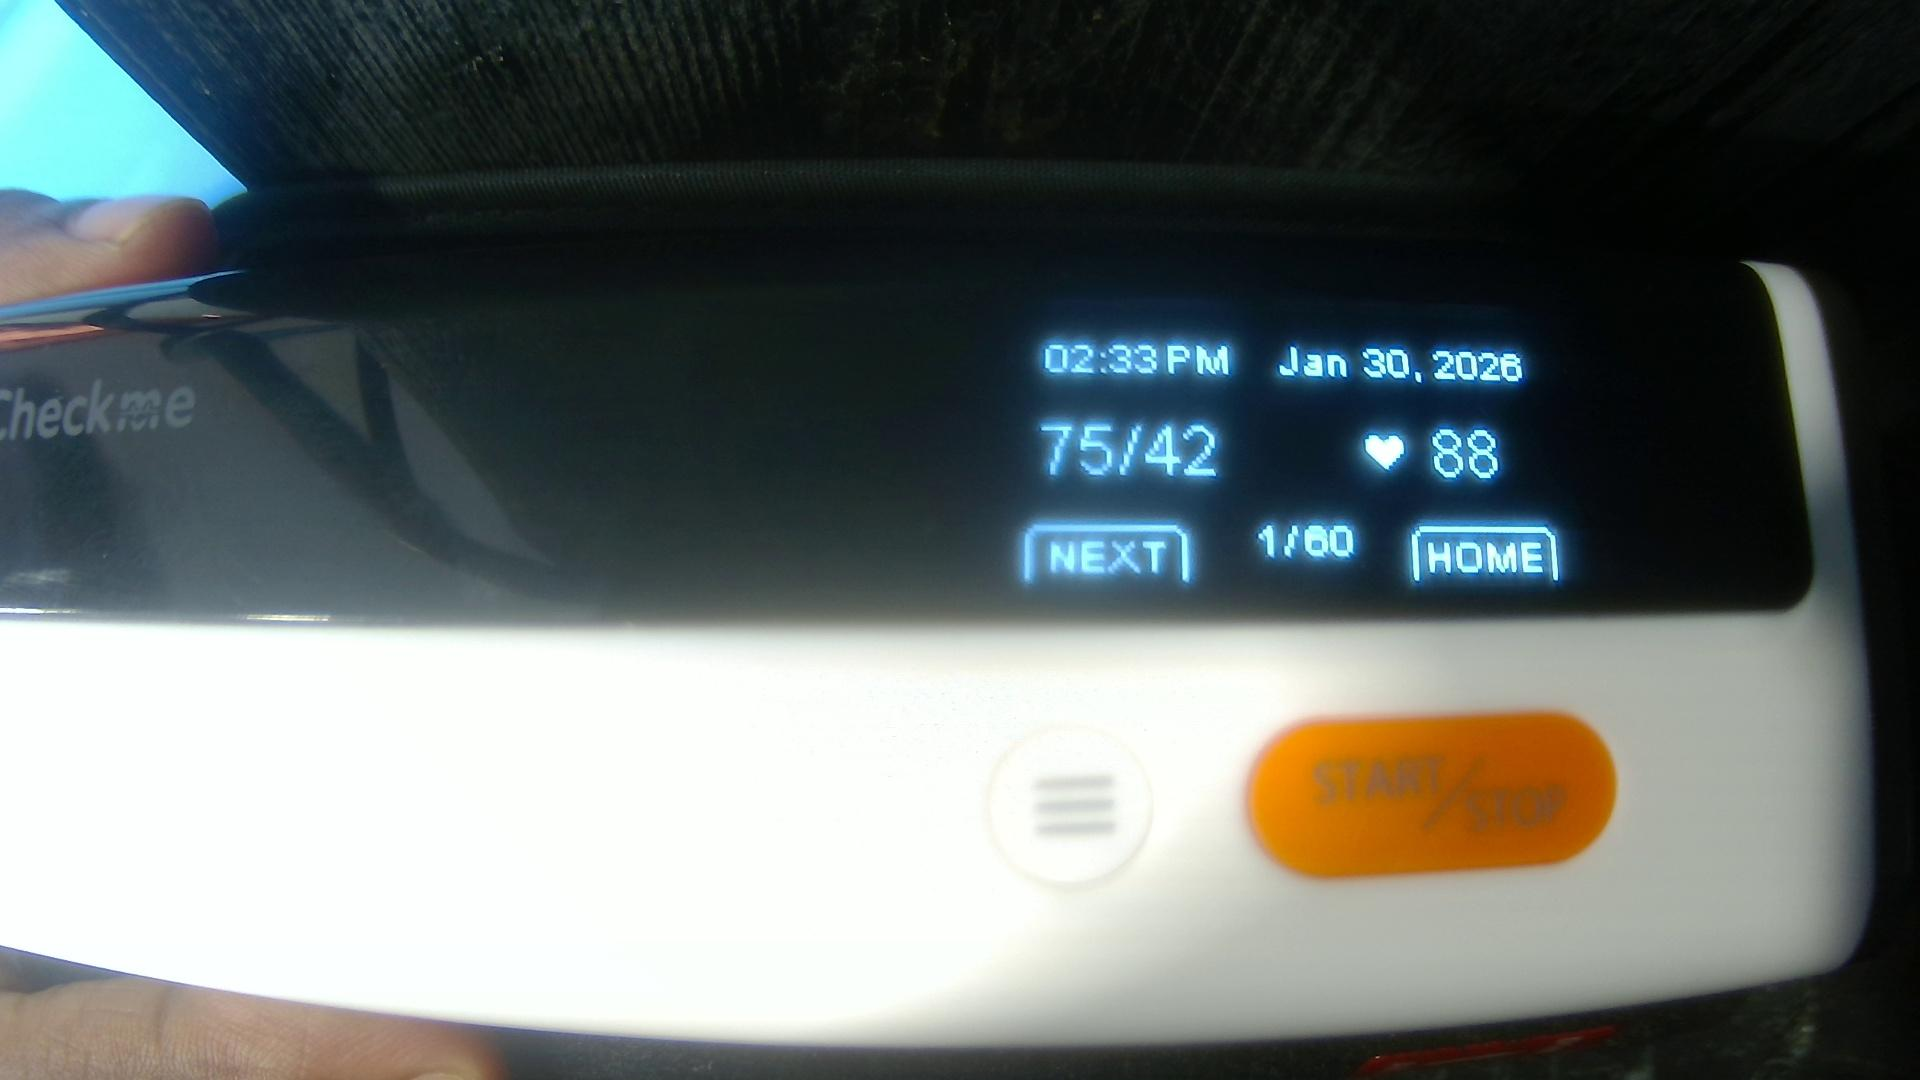DISPLAY: (0, 270, 1797, 617)
